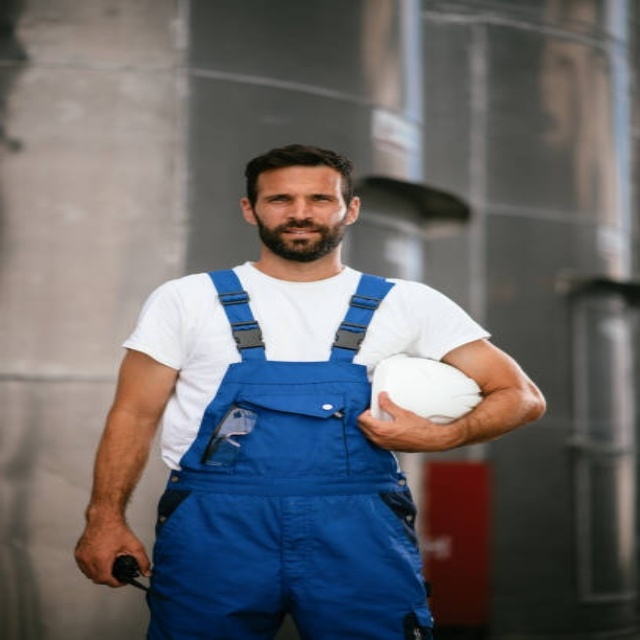Sin_gafas: (260, 186, 344, 209)
Sin_guantes: (71, 511, 152, 587), (355, 387, 450, 450)
Sin_mascara: (270, 220, 326, 249)
